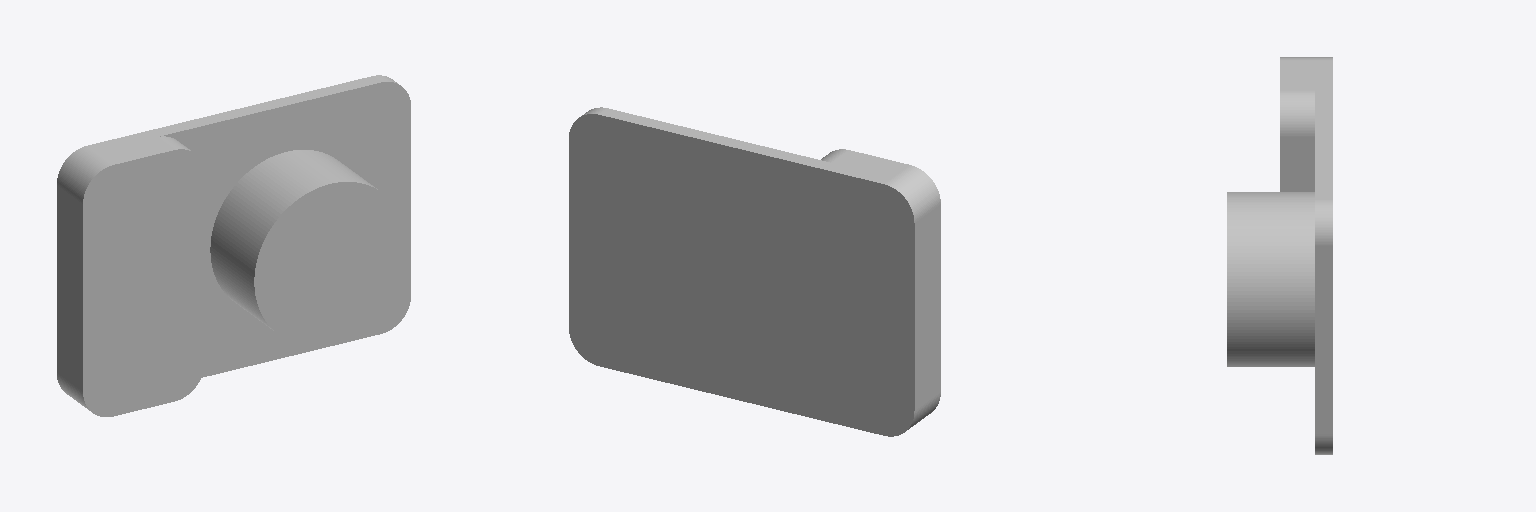
3 renders of one model, left to right at view 1: azimuth 30°, elevation 25°; view 2: azimuth 150°, elevation 25°; view 3: azimuth 270°, elevation 25°, orthographic.
Parts seen in each view (by area): view 1: Base; view 2: Base; view 3: Base.
Part boxes in pixels (x1,y1,x2,y2): Base: (57, 75, 410, 416); Base: (569, 107, 940, 436); Base: (1227, 57, 1332, 454).
Bounding box in the file's own units: 1.14 × 0.79 × 0.3.